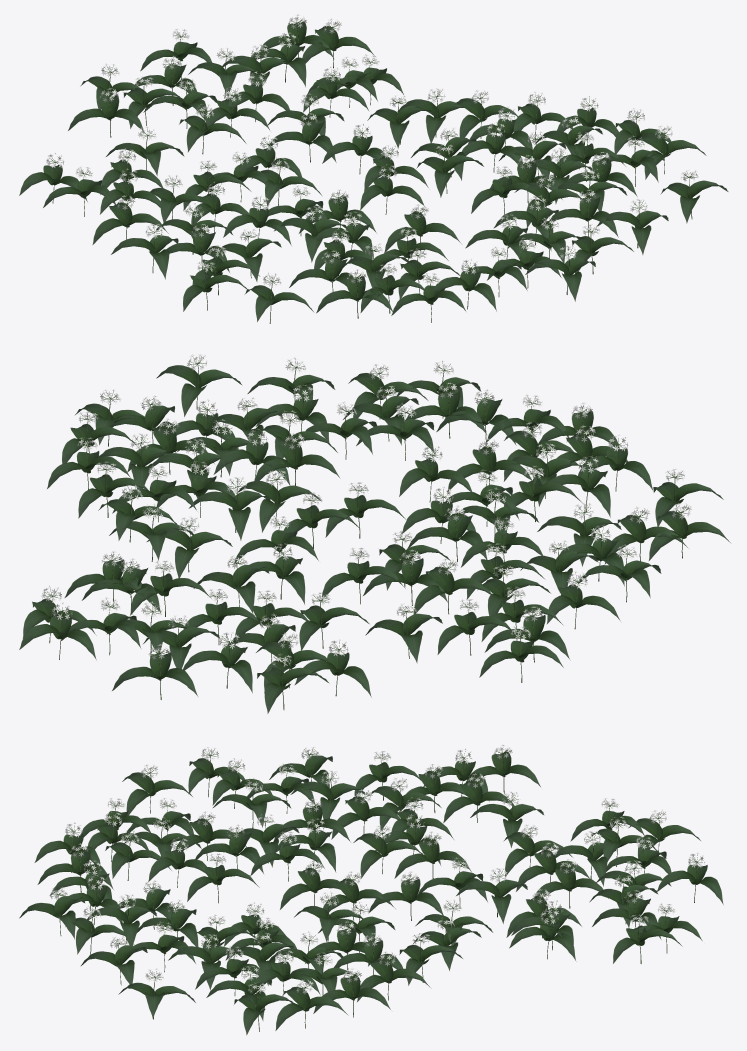
File: cemaz_lowp_foto.gltf
3 views of the same model, one above another, from view 1: azimuth 30°, elevation 25°; view 2: azimuth 150°, elevation 25°; view 3: azimuth 270°, elevation 25° (orthographic). The views are drawn at different scales.
Visible parts, largest first — view 1: cemaz.046, cemaz.035, cemaz.042, cemaz.065, cemaz.084, cemaz.086, cemaz.063, cemaz.058, cemaz.050, cemaz.012, cemaz.001, cemaz.043 (+75 smaller); view 2: cemaz.040, cemaz.029, cemaz.028, cemaz.083, cemaz.070, cemaz.008, cemaz.009, cemaz.066, cemaz.051, cemaz.027, cemaz.078, cemaz.016 (+75 smaller); view 3: cemaz.075, cemaz.052, cemaz.023, cemaz.069, cemaz.074, cemaz.082, cemaz.005, cemaz.081, cemaz.034, cemaz.068, cemaz.008, cemaz.039 (+75 smaller).
Boxes of the visible parts, box(x1,y1,x2,y2) form: cemaz.046: box(111, 223, 178, 279); cemaz.035: box(525, 245, 595, 301); cemaz.042: box(596, 199, 668, 254); cemaz.065: box(92, 195, 168, 244); cemaz.084: box(454, 90, 517, 138); cemaz.086: box(397, 88, 472, 142); cemaz.063: box(68, 88, 144, 137); cemaz.058: box(384, 204, 461, 252); cemaz.050: box(316, 269, 392, 318); cemaz.012: box(274, 206, 346, 262); cemaz.001: box(302, 18, 375, 68); cemaz.043: box(223, 195, 291, 245); cemaz.040: box(156, 354, 241, 416); cemaz.029: box(236, 470, 321, 532); cemaz.028: box(188, 477, 270, 540); cemaz.083: box(147, 516, 232, 578); cemaz.070: box(413, 559, 491, 614); cemaz.008: box(112, 644, 197, 699); cemaz.009: box(183, 632, 252, 693); cemaz.066: box(484, 606, 569, 662); cemaz.051: box(648, 503, 730, 560); cemaz.027: box(254, 433, 339, 485); cemaz.078: box(19, 602, 96, 659); cemaz.016: box(407, 505, 487, 561); cemaz.075: box(353, 825, 423, 878); cemaz.052: box(122, 764, 192, 815); cemaz.023: box(275, 980, 348, 1030); cemaz.069: box(443, 773, 514, 822); cemaz.074: box(394, 831, 471, 878); cemaz.082: box(368, 871, 443, 920); cemaz.005: box(504, 824, 572, 876); cemaz.081: box(456, 868, 527, 923); cemaz.034: box(87, 894, 156, 945); cemaz.068: box(470, 792, 543, 847); cemaz.008: box(657, 853, 723, 904); cemaz.039: box(137, 900, 198, 946).
Bounding box in the file's own units: 2.24 × 0.1843 × 2.48.
5 materials, 3 textured.
